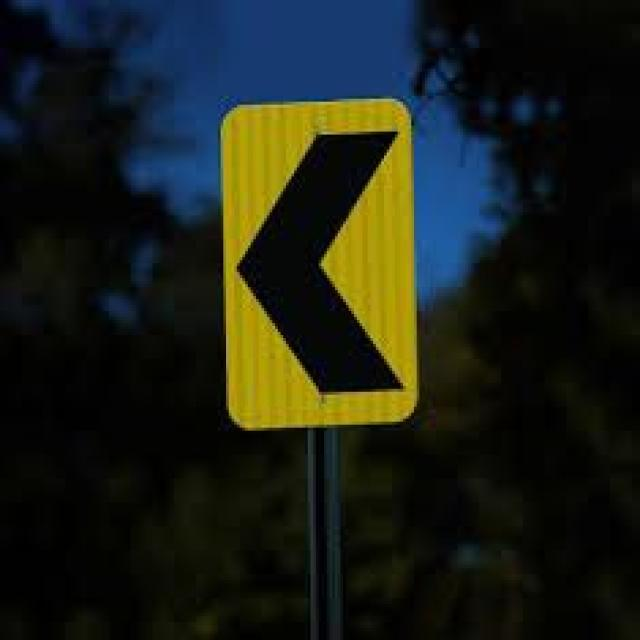chevron_left: (222, 102, 412, 434)
